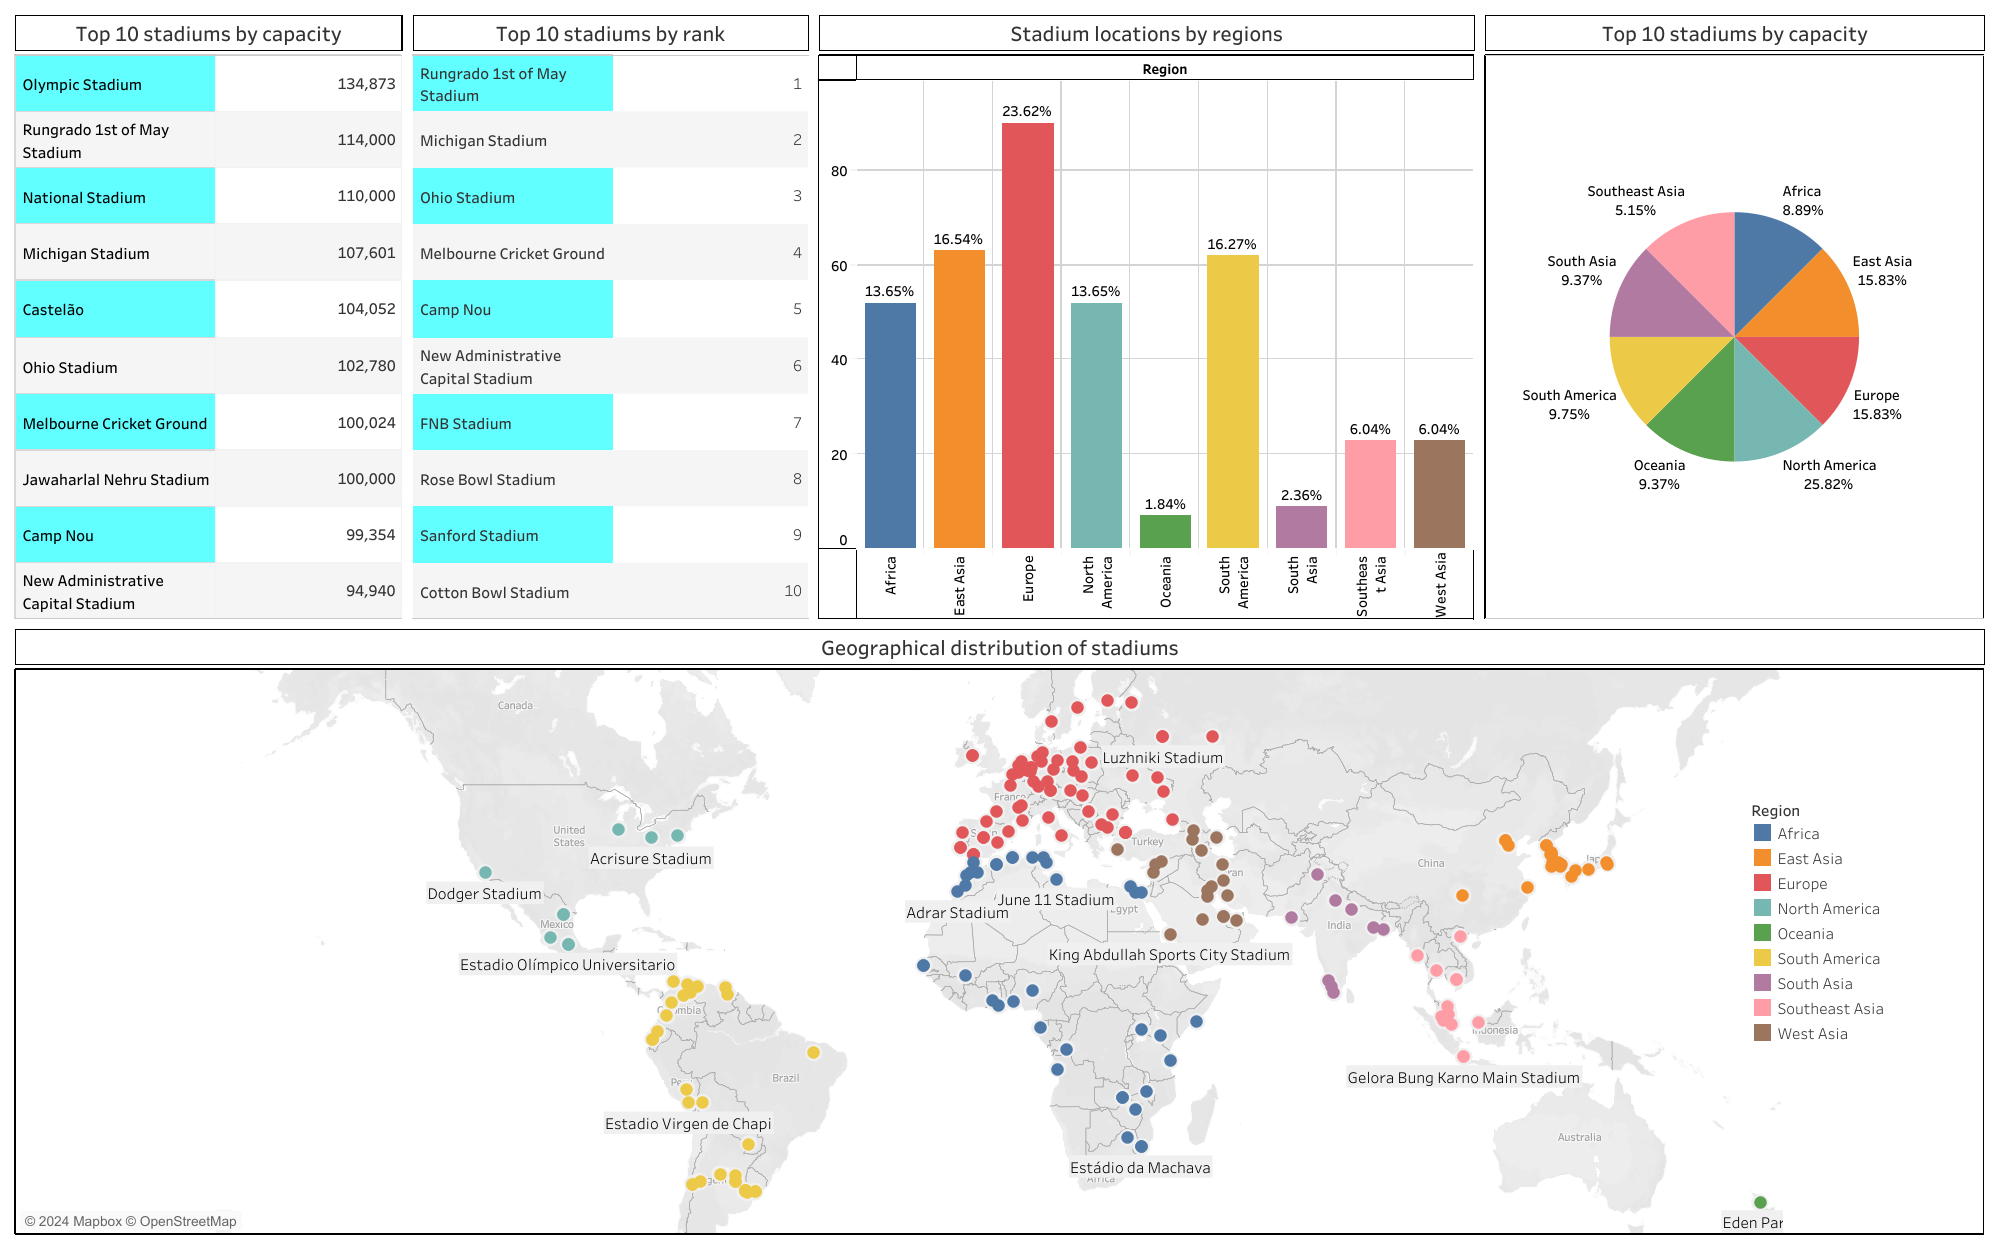

The page's visual inventory and layout, read from the dashboard file:
{"tool":"tableau","page":{"name":"Dashboard","canvas":[1600,1000],"ordinal":0},"visuals":[{"type":"worksheet","title":"Top 10 stadiums by capacity","mark":"Automatic","rows":["stadium"],"box":[8,8,317.9,491.5]},{"type":"worksheet","title":"Top 10 stadium by ranks","mark":"Automatic","rows":["stadium"],"box":[325.9,8,325.6,491.5]},{"type":"worksheet","title":"Stadium locations by regions","mark":"Automatic","rows":["Calculation_234750173372891136"],"cols":["region"],"box":[651.4,8,532.6,491.5]},{"type":"worksheet","title":"Top 10 stadiums by capacity ","mark":"Pie","box":[1184,8,408,491.5]},{"type":"worksheet","title":"Geographical distribution of stadiums","mark":"Automatic","box":[8,499.5,1584,492.5]},{"type":"legend","title":"Geographical distribution of stadiums","param":"[federated.14i8h831vw5ygo13leg5v1cr6iia].[none:region:nk]","box":[1395.5,633.4,164.4,219]}]}

Visuals, with their boxes in screenshot pixels (x1, y1, x2, y2), scaled from the page's 1600x1000 canvas onto the 1999x1249 screenshot:
"Top 10 stadiums by capacity" worksheet: locate(10, 10, 407, 624)
"Top 10 stadium by ranks" worksheet: locate(407, 10, 814, 624)
"Stadium locations by regions" worksheet: locate(814, 10, 1479, 624)
"Top 10 stadiums by capacity " worksheet (Pie marks): locate(1479, 10, 1989, 624)
"Geographical distribution of stadiums" worksheet: locate(10, 624, 1989, 1239)
"Geographical distribution of stadiums" legend: locate(1744, 791, 1949, 1065)
